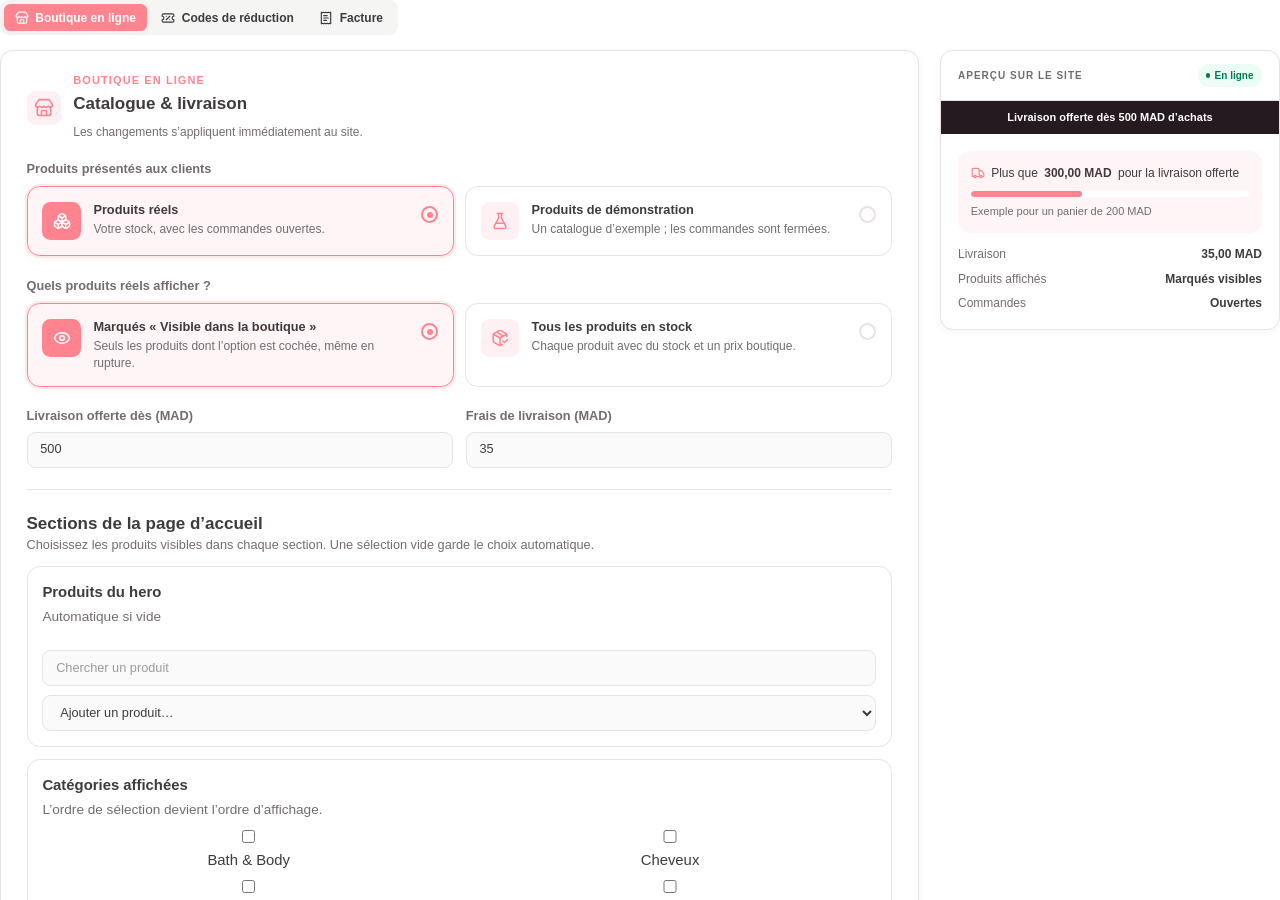
Test case: storefront settings › disables the product rule while the demo catalogue is shown
The width and height of the screenshot is (1280, 900).
Expected: the number field labelled "Livraison offerte dès (MAD)" is enabled, [26, 432, 453, 468]
Click the radio button labelled "Produits de démonstration".
click(678, 221)  # box [465, 186, 892, 256]
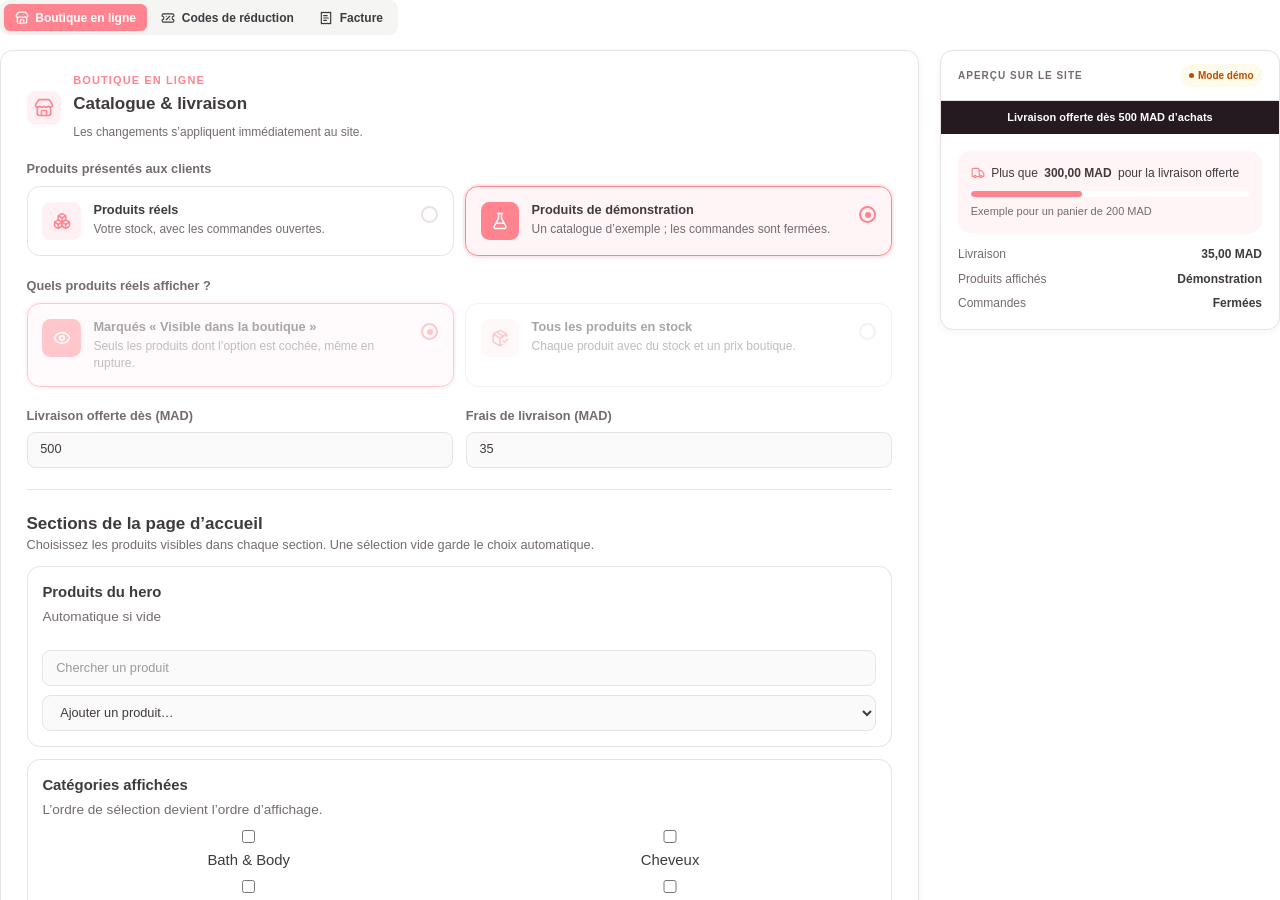
Now the radio button labelled "Tous les produits en stock" is disabled, box [465, 303, 892, 387]
Now the text "Mode démo" is shown, box [1181, 64, 1262, 87]
